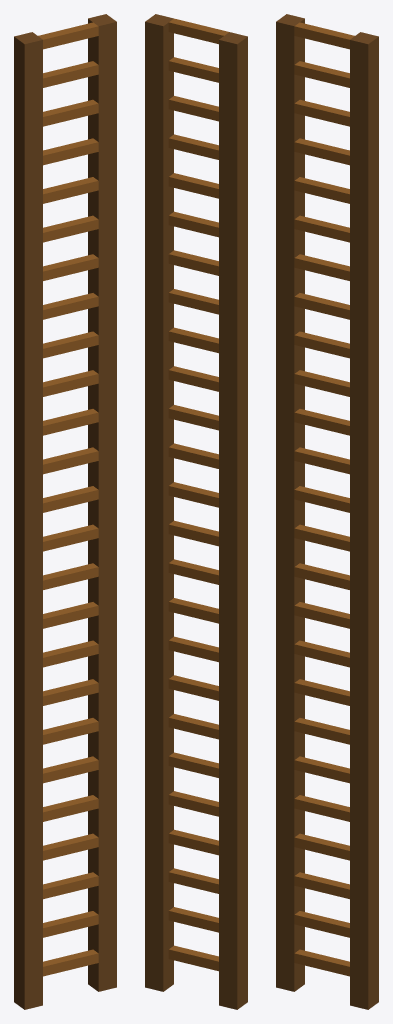
File: ladder.obj
3 renders of one model, left to right at view 1: azimuth 30°, elevation 25°; view 2: azimuth 150°, elevation 25°; view 3: azimuth 330°, elevation 25°, orthographic.
Bounding box in the file's own units: 1 × 10 × 0.2.
Materials: 1 (1 with a texture image).
